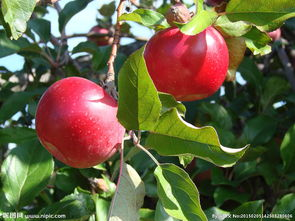obscured(0)_apple: (34, 74, 131, 170)
obscured(1)_apple: (144, 22, 234, 101)
